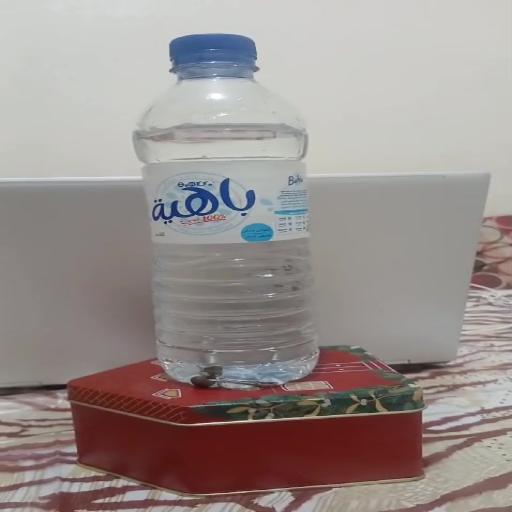bouteille conformite: (130, 28, 342, 398)
